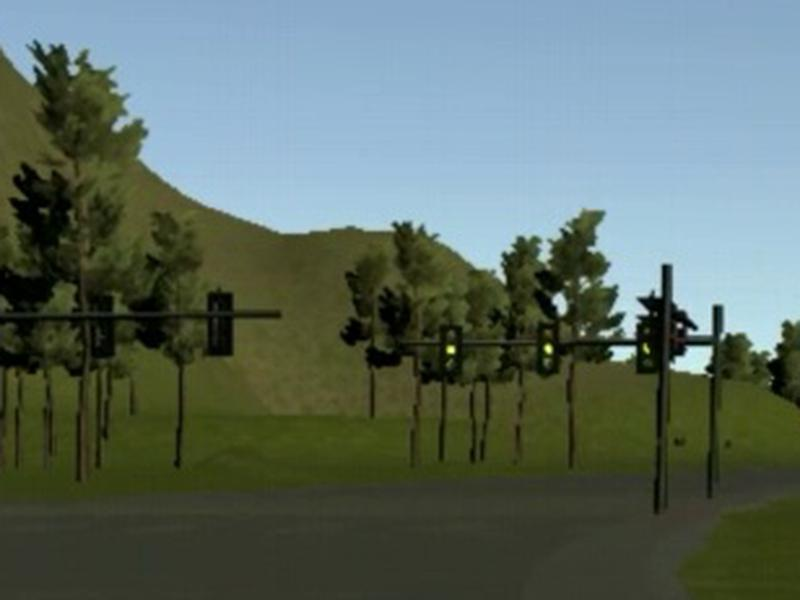Yellow: (440, 324, 464, 375), (537, 323, 560, 373)
